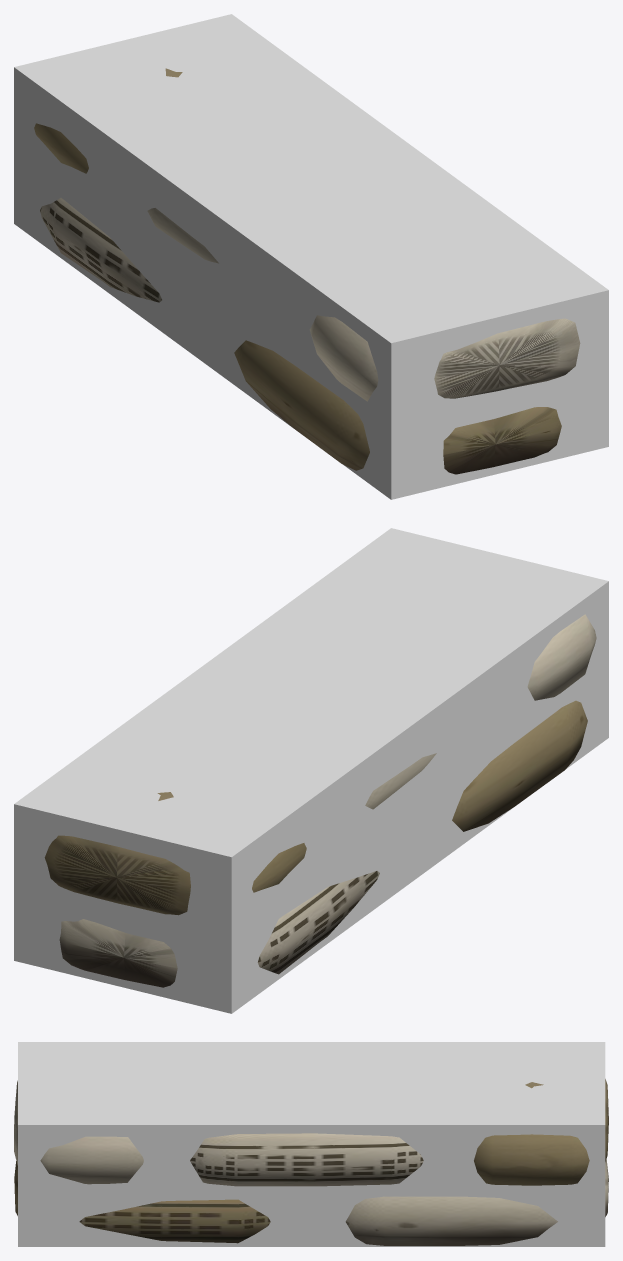
File: Kit_Lot_BagWall_01.glb
3 renders of one model, top to bottom at view 1: azimuth 30°, elevation 25°; view 2: azimuth 150°, elevation 25°; view 3: azimuth 270°, elevation 25°, orthographic. The views are drawn at different scales.
Parts seen in each view (by area): view 1: COL_Kit_Lot_BagWall_01_0, Kit_Lot_BagWall_01_LOD0; view 2: COL_Kit_Lot_BagWall_01_0, Kit_Lot_BagWall_01_LOD0; view 3: COL_Kit_Lot_BagWall_01_0, Kit_Lot_BagWall_01_LOD0.
Part boxes in pixels (left/top/right/bottom): COL_Kit_Lot_BagWall_01_0: left=14, top=14, right=608, bottom=499; Kit_Lot_BagWall_01_LOD0: left=34, top=68, right=580, bottom=474; COL_Kit_Lot_BagWall_01_0: left=14, top=528, right=608, bottom=1013; Kit_Lot_BagWall_01_LOD0: left=44, top=614, right=596, bottom=987; COL_Kit_Lot_BagWall_01_0: left=18, top=1042, right=605, bottom=1246; Kit_Lot_BagWall_01_LOD0: left=14, top=1079, right=608, bottom=1245.
Size of what is drawn, in the model's own units: 1.77 by 1.1 by 4.86.
1 material, 1 textured.
